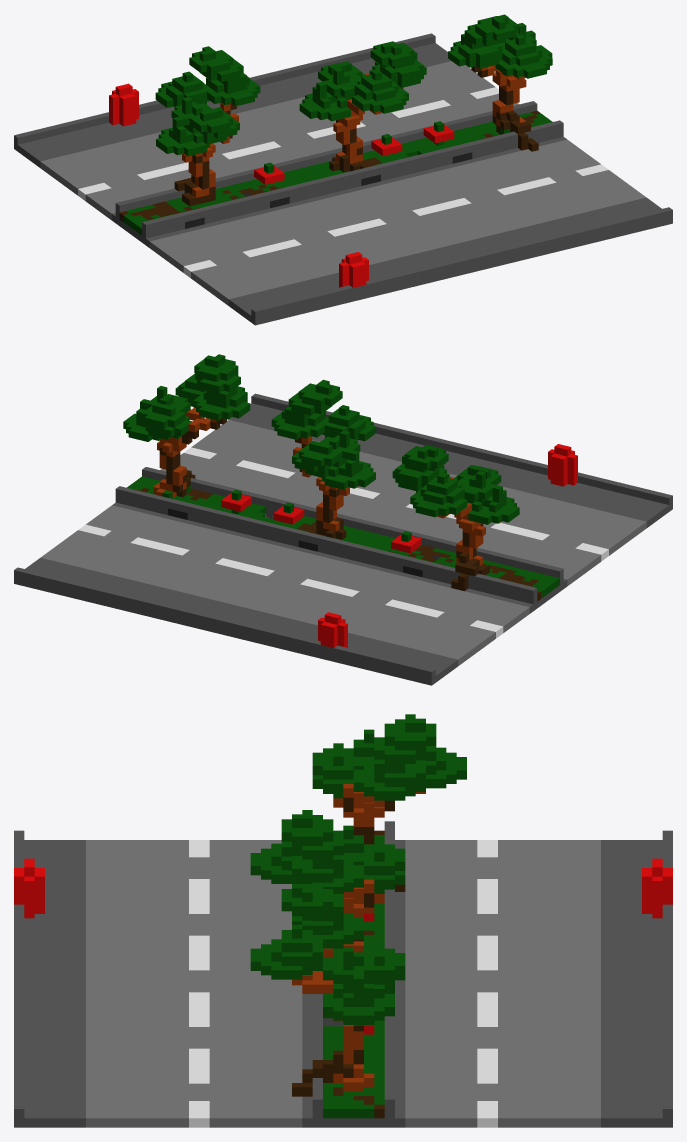
File: StreetWinWin.obj
3 views of the same model, one above another, from view 1: azimuth 30°, elevation 25°; view 2: azimuth 150°, elevation 25°; view 3: azimuth 270°, elevation 25° (orthographic). The views are drawn at different scales.
Parts seen in each view (by area): view 1: StreetWinWin; view 2: StreetWinWin; view 3: StreetWinWin.
Boxes of the visible parts, bbox=[...] form: StreetWinWin: bbox=[14, 14, 672, 325]; StreetWinWin: bbox=[14, 354, 672, 685]; StreetWinWin: bbox=[14, 714, 672, 1127].
Size of the model in its own units: 64 by 21 by 64.
Materials: 1 (1 with a texture image).
